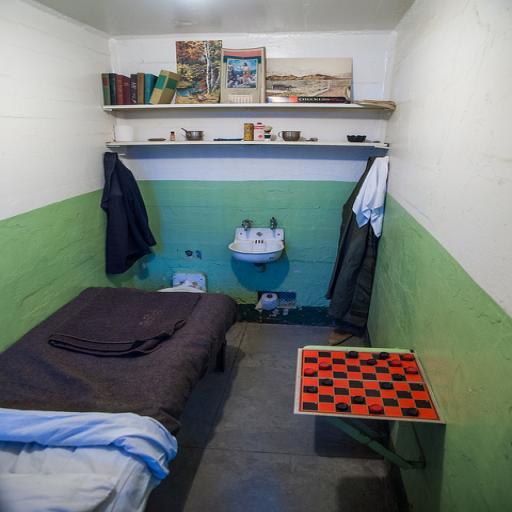bed: (14, 270, 255, 512)
